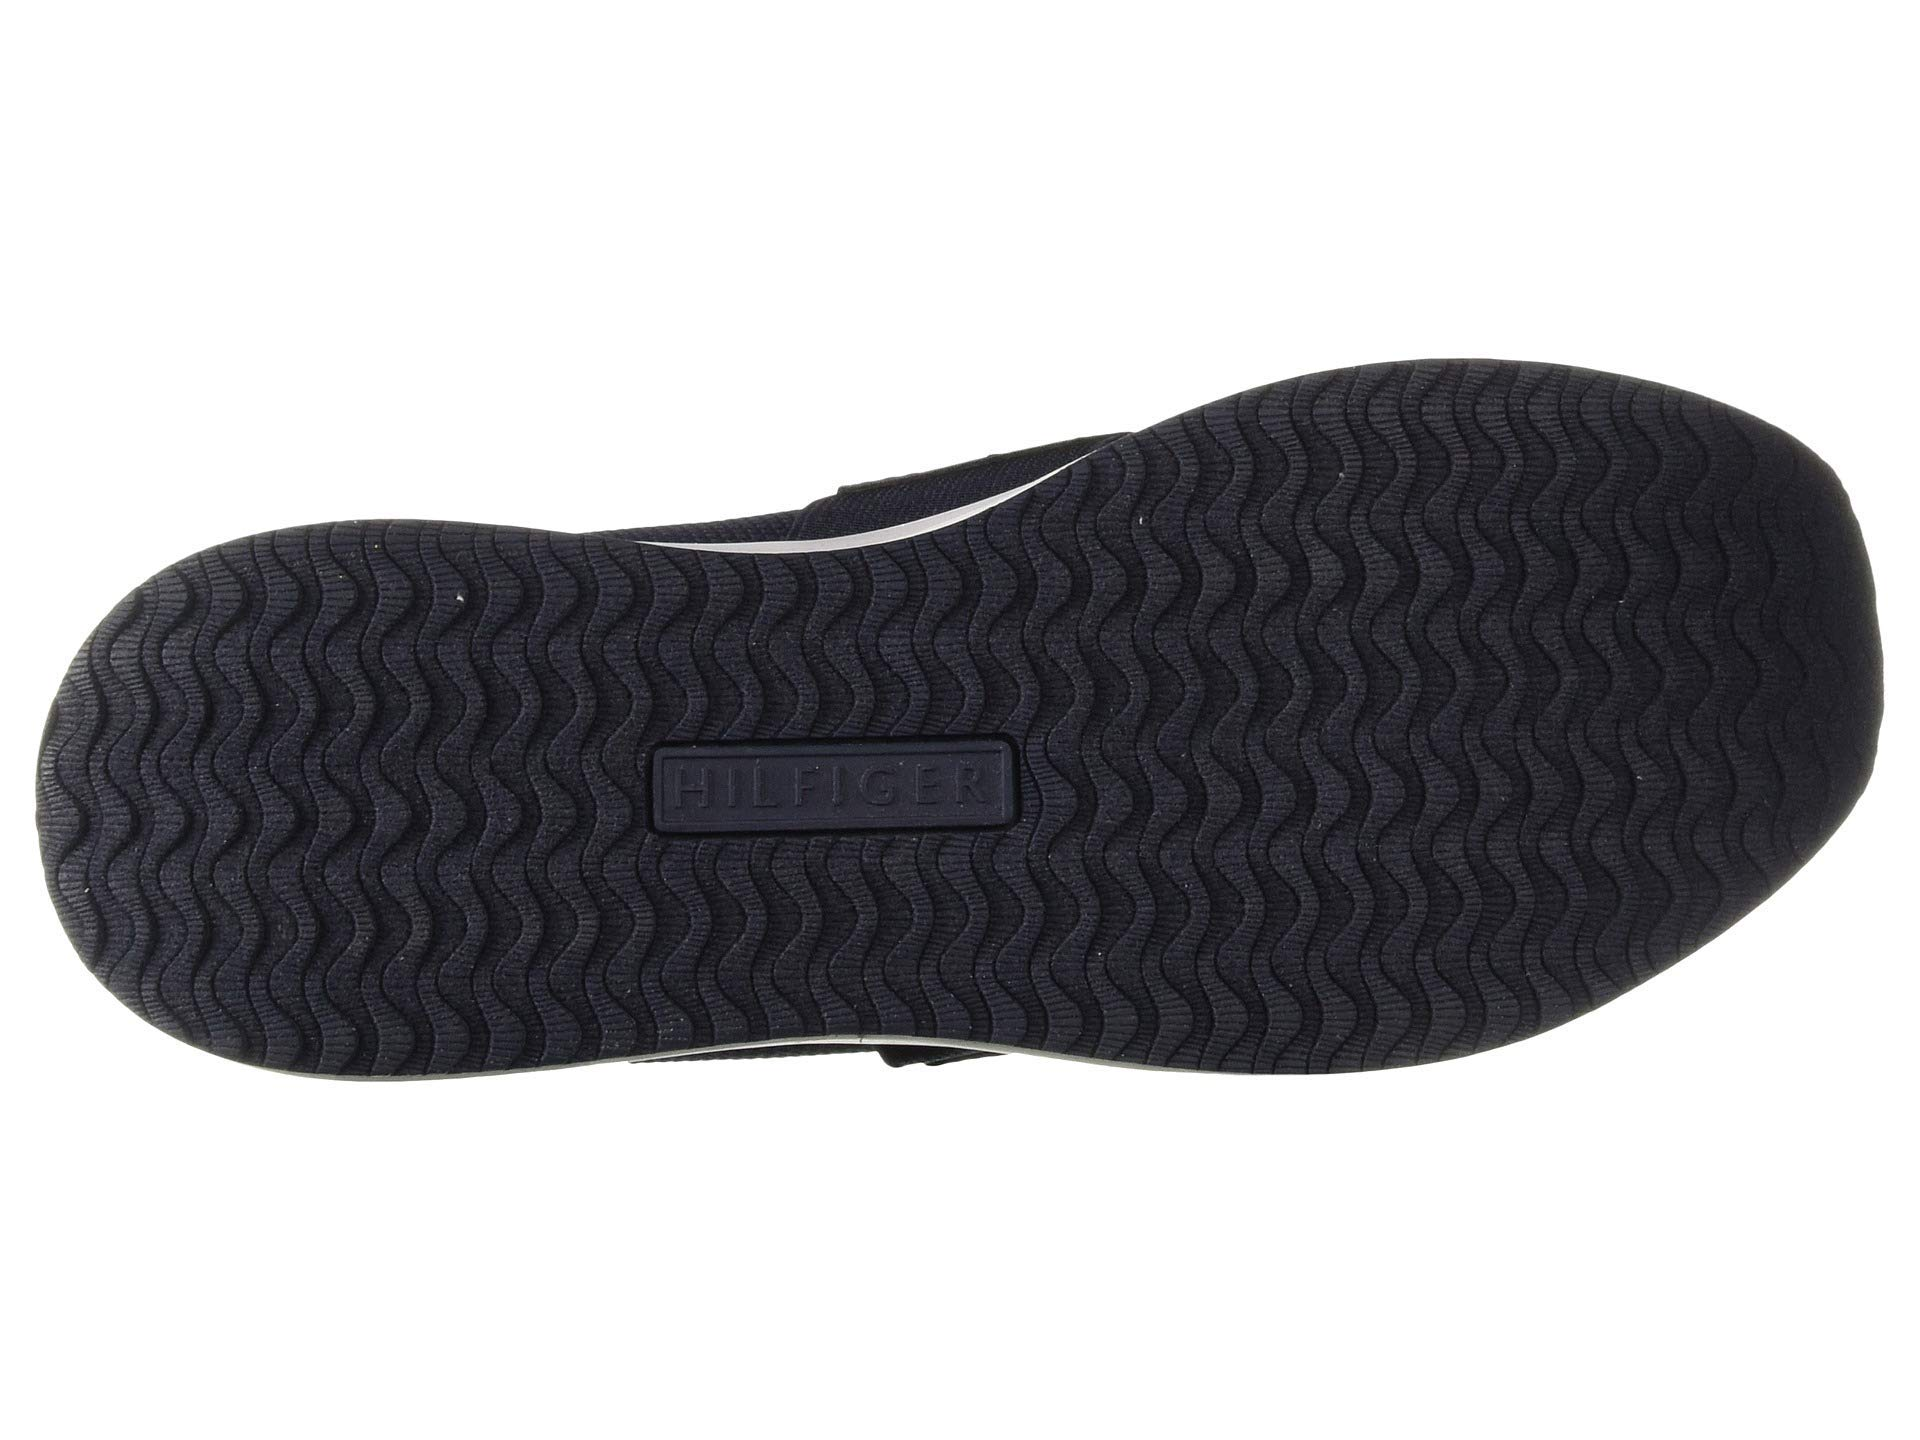chevron: (1048, 537, 1610, 895)
